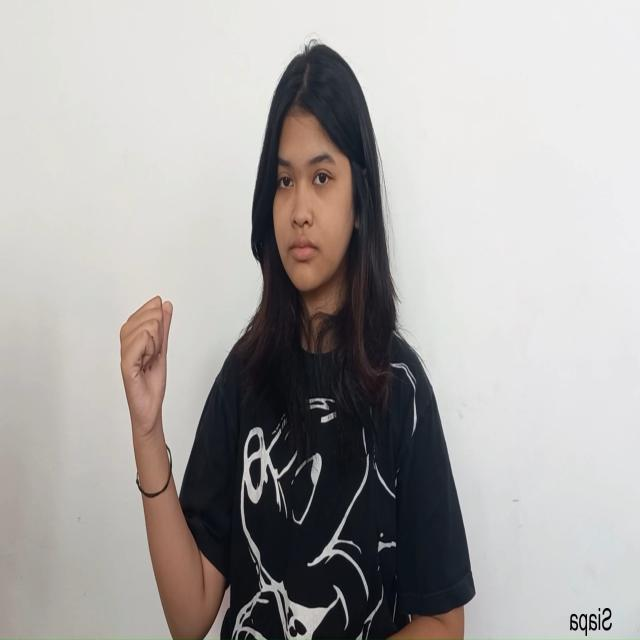Siapa -BISINDO-: (117, 289, 175, 458)
